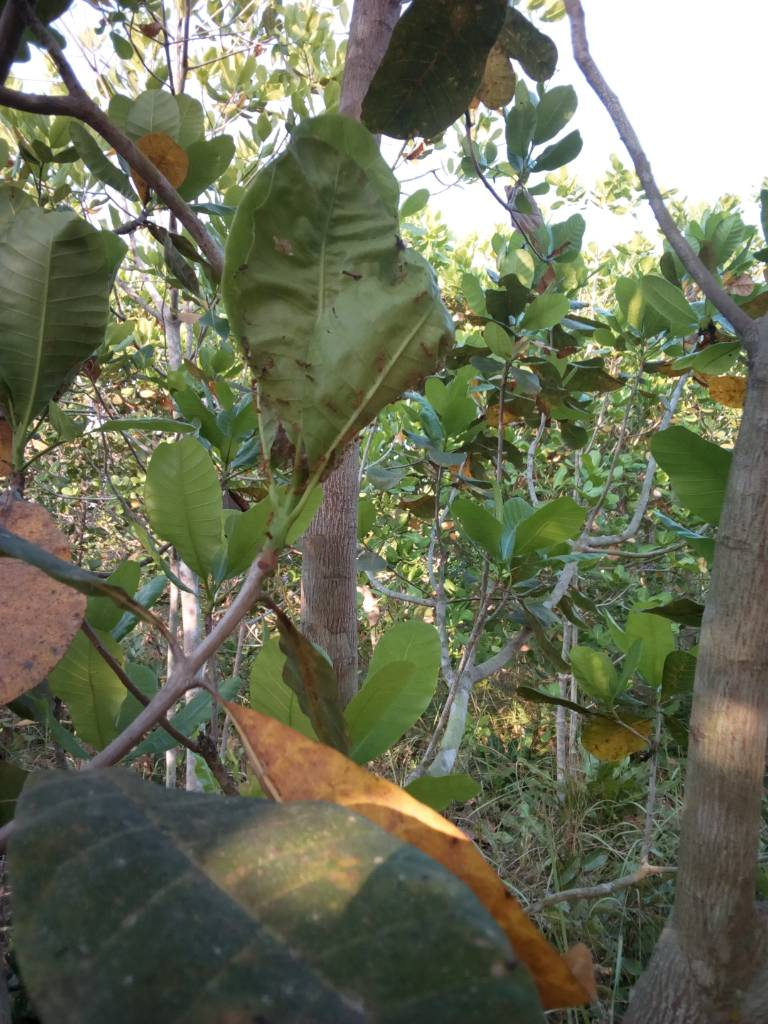Bactériose: (233, 135, 438, 488)
